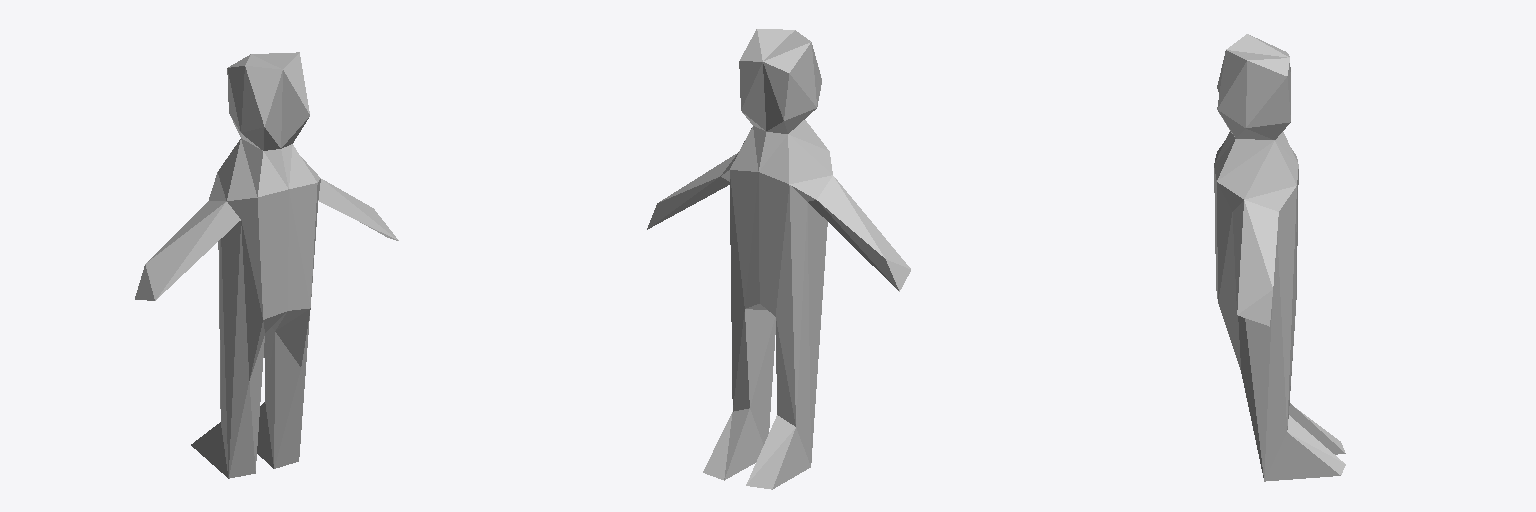
Rendered from man.obj.
3 renders of one model, left to right at view 1: azimuth 30°, elevation 25°; view 2: azimuth 150°, elevation 25°; view 3: azimuth 270°, elevation 25°, orthographic.
Parts seen in each view (by area): view 1: Cube_Cube.002; view 2: Cube_Cube.002; view 3: Cube_Cube.002.
Boxes of the visible parts, x1,y1,x2,y2 form: Cube_Cube.002: [135, 52, 398, 478]; Cube_Cube.002: [647, 29, 910, 489]; Cube_Cube.002: [1214, 34, 1345, 481].
Bounding box in the file's own units: 6.63 × 10.46 × 2.99.